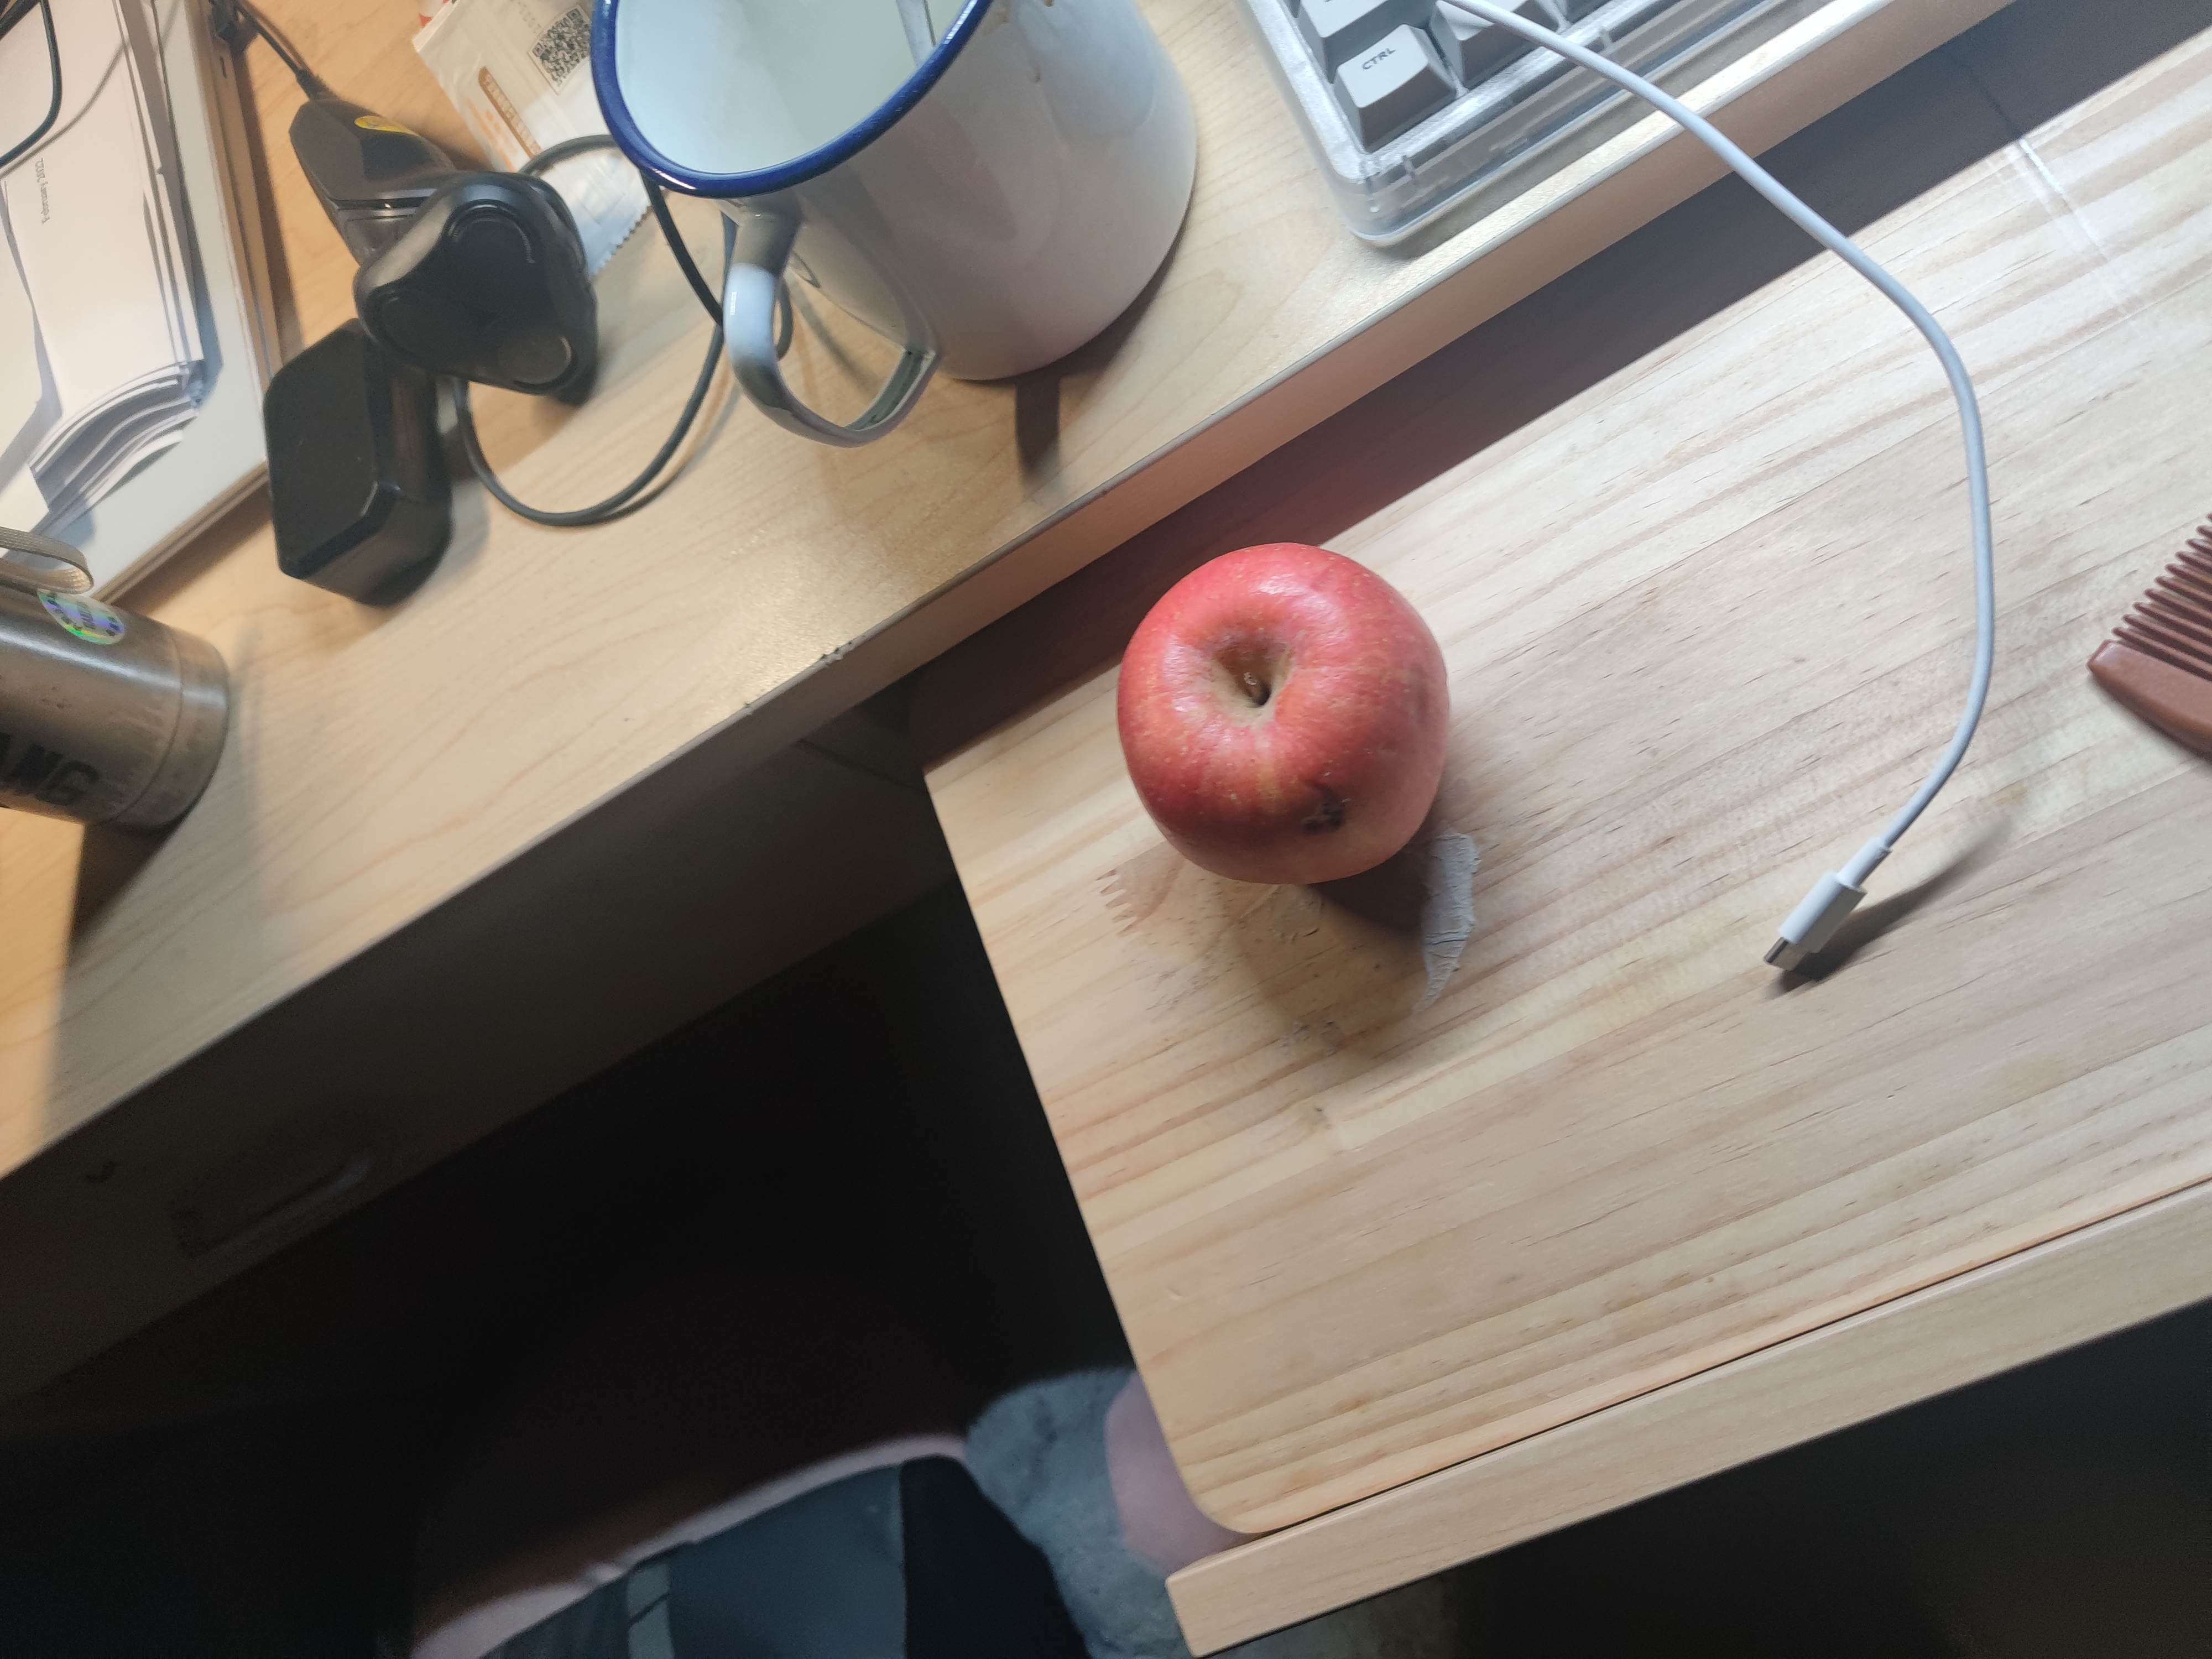apple: (1116, 544, 1460, 896)
